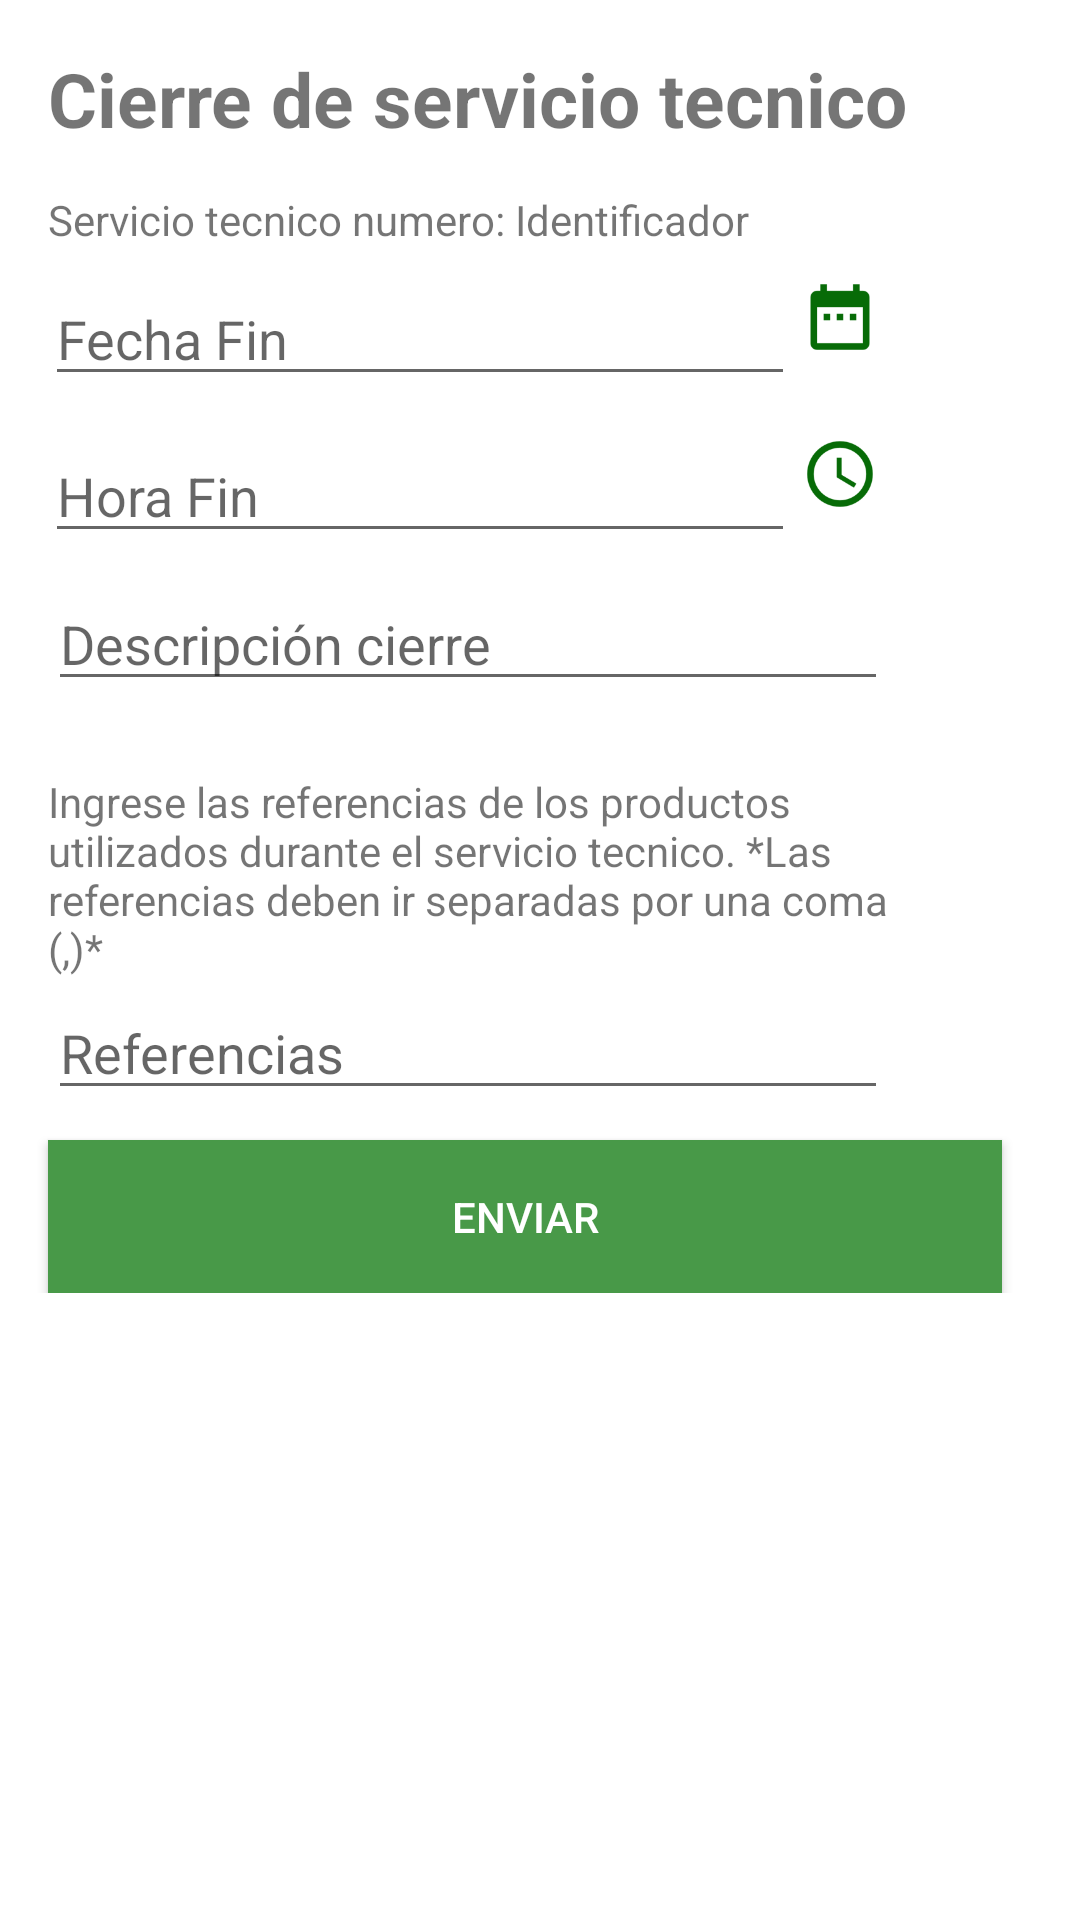

Where to tap for icons on this 1080×1920 app screen, as [x,y]:
date: [840,317]
time: [840,474]
